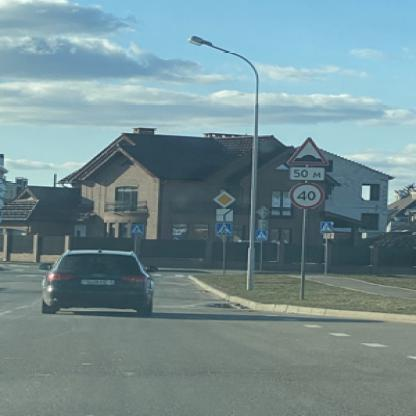crosswalk: (316, 218, 332, 233), (214, 222, 230, 234), (128, 224, 144, 235), (254, 226, 266, 240)
speedlimit: (286, 182, 320, 208)
